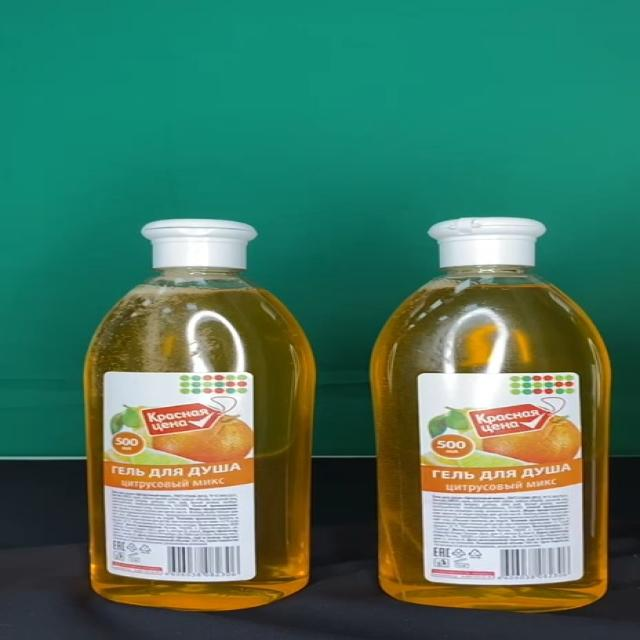Bottle: (371, 217, 613, 612), (84, 218, 316, 610)
Cap: (138, 219, 258, 270), (427, 218, 545, 266)
